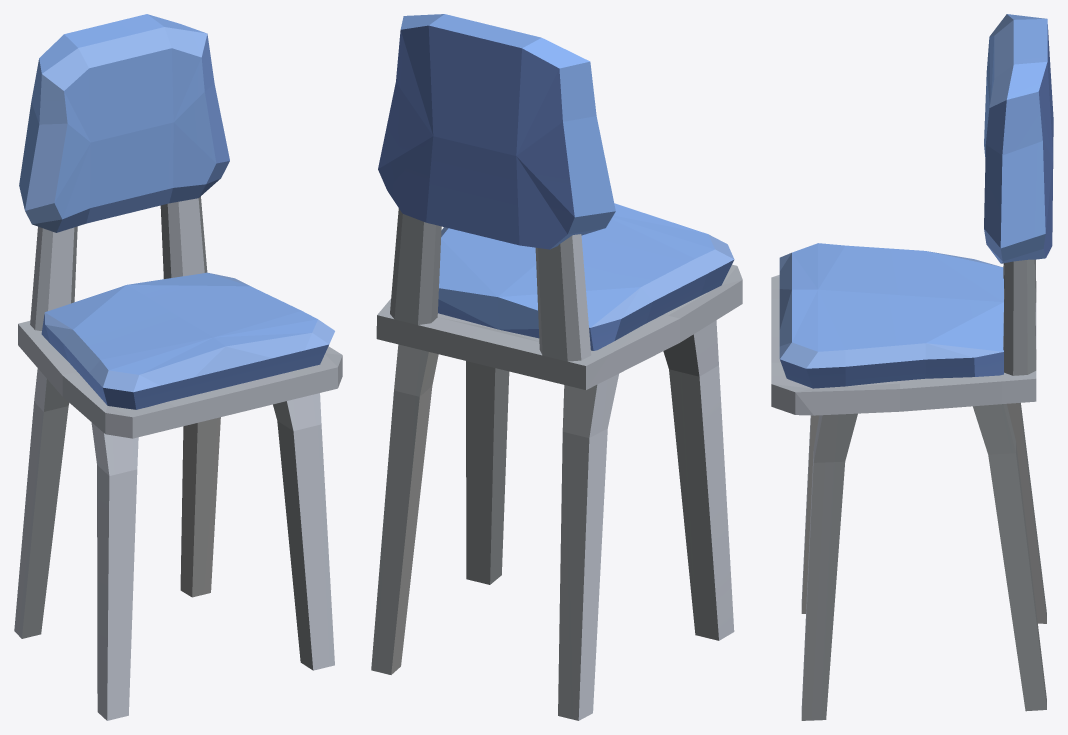
The model's file is Chair_Mesh.fbx.
3 views of the same model, side by side, from view 1: azimuth 30°, elevation 25°; view 2: azimuth 150°, elevation 25°; view 3: azimuth 270°, elevation 25° (orthographic). The views are drawn at different scales.
Parts seen in each view (by area): view 1: Chair_Mesh; view 2: Chair_Mesh; view 3: Chair_Mesh.
Boxes of the visible parts, x1,y1,x2,y2 form: Chair_Mesh: [14, 14, 342, 720]; Chair_Mesh: [371, 14, 742, 720]; Chair_Mesh: [771, 14, 1053, 720].
Bounding box in the file's own units: 45.27 × 106 × 43.69.
Materials: 1 (1 with a texture image).
